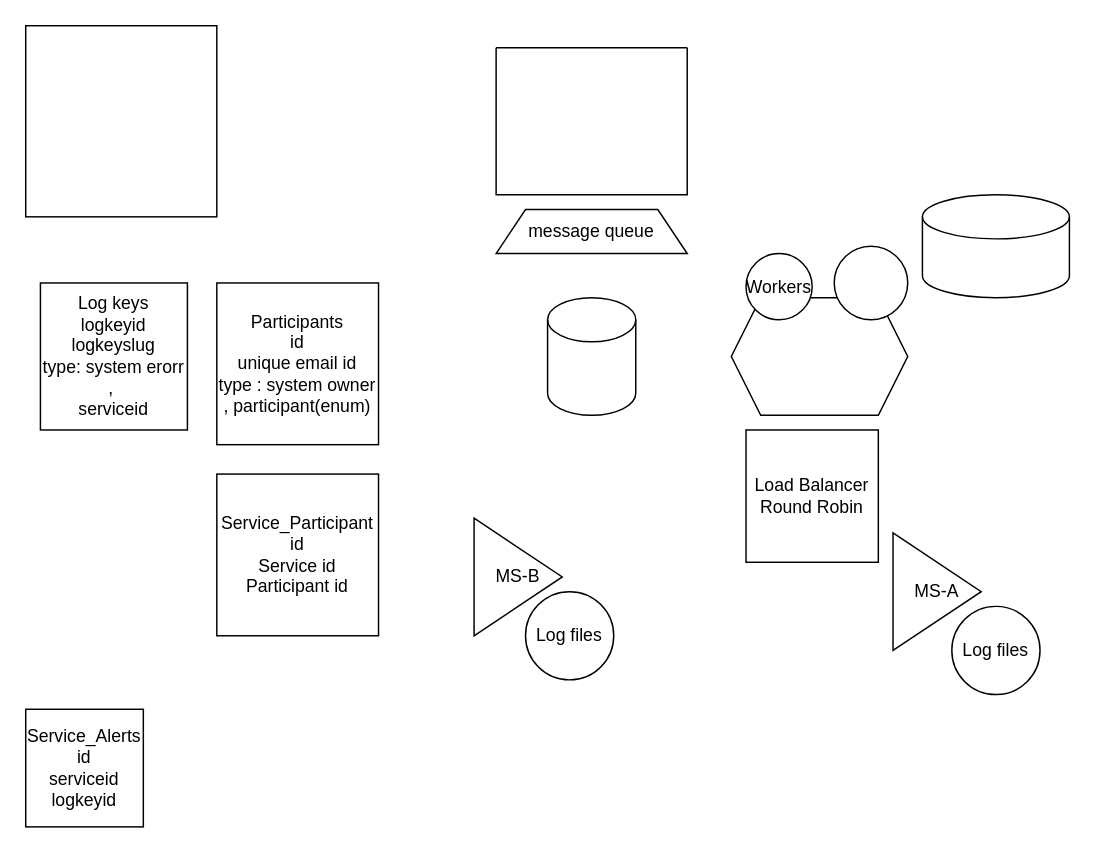
Some shapes in this 1095 by 853 pixel diagram are drawn without their labels. The shapes that lost their labels are listed below. From the top down, each one's centre as x and y in pixels, then its label:
At (x=120, y=120): "Alert Service".
At (x=591, y=120): "Centralised Notification Service".
At (x=995, y=245): "Store relevant log keys to be stored".
At (x=591, y=355): "Alerts Logs data center".
At (x=819, y=355): "Alerting service".
